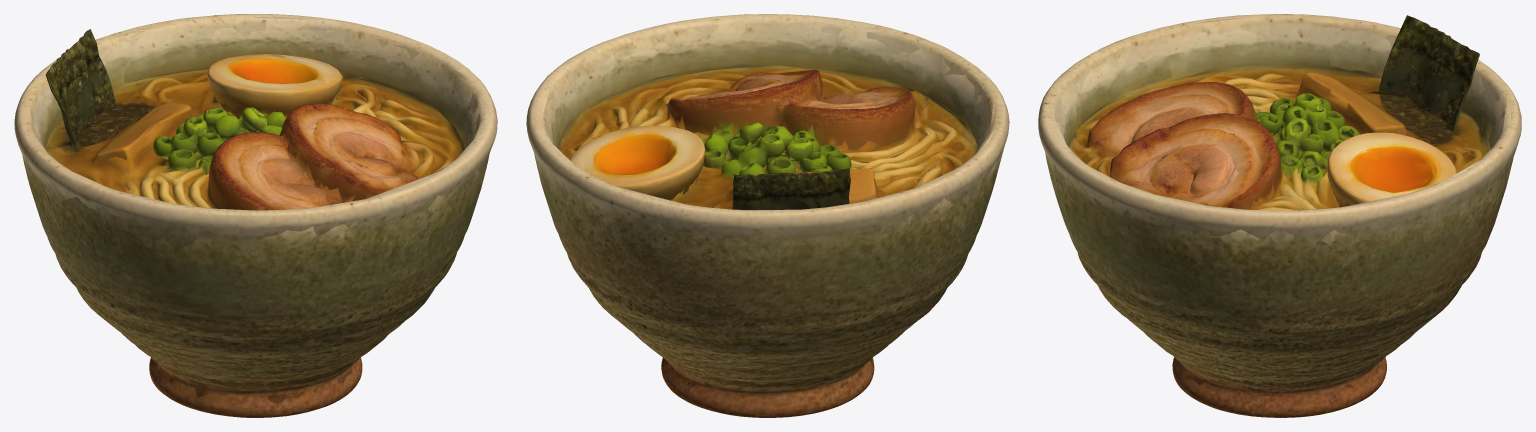
Rendered from diner-ramen.glb.
3 views of the same model, side by side, from view 1: azimuth 30°, elevation 25°; view 2: azimuth 150°, elevation 25°; view 3: azimuth 270°, elevation 25° (orthographic).
Visible parts, largest first — view 1: Detailed view, Room view; view 2: Detailed view, Room view; view 3: Detailed view, Room view.
Part boxes in pixels (bbox=[...]): Detailed view: bbox=[14, 14, 497, 417]; Room view: bbox=[17, 17, 490, 408]; Detailed view: bbox=[526, 14, 1009, 417]; Room view: bbox=[529, 16, 1004, 401]; Detailed view: bbox=[1038, 14, 1521, 417]; Room view: bbox=[1045, 16, 1517, 397].
Bounding box in the file's own units: 0.9805 × 0.6456 × 0.978.
1 material, 1 textured.
